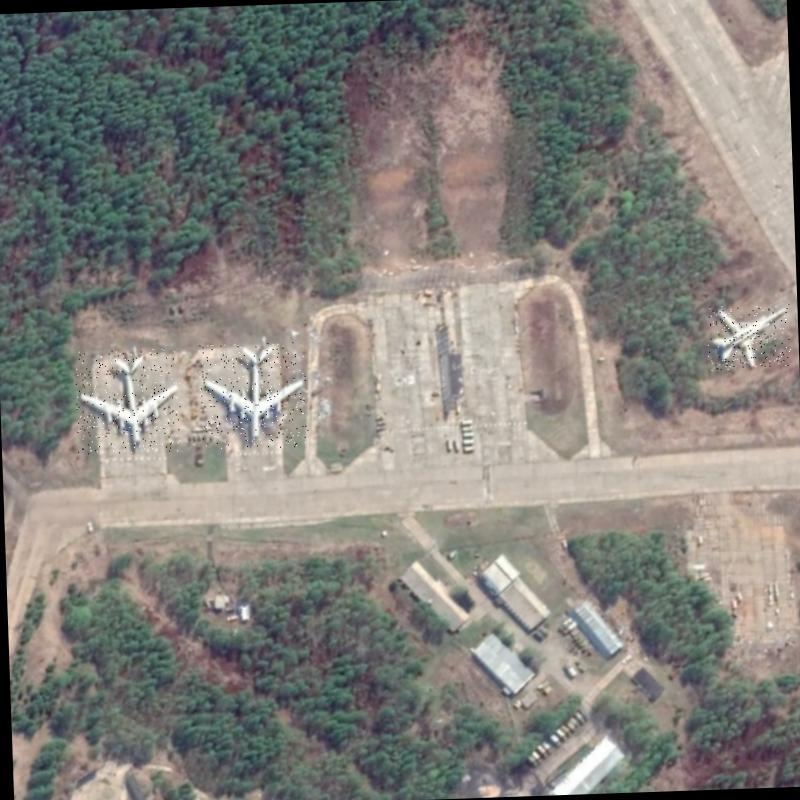A12: (706, 304, 791, 370)
A17: (198, 341, 309, 450), (74, 347, 182, 454)
